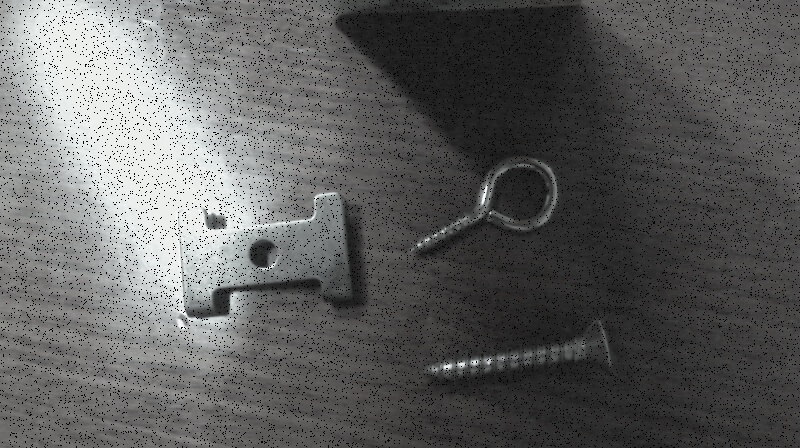O001: (407, 154, 562, 259)
O002: (176, 189, 357, 319)
S001: (417, 313, 618, 384)
